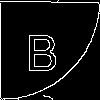B: (25, 25, 59, 72)
